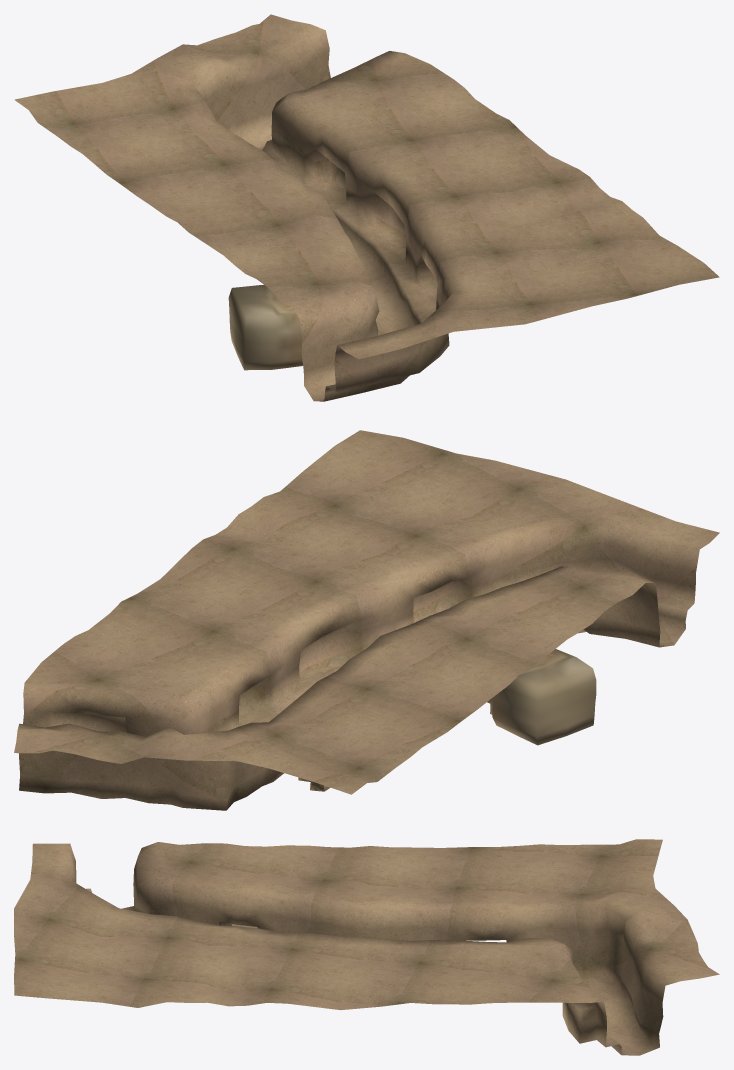
The model's file is trench_base.dae.
3 views of the same model, one above another, from view 1: azimuth 30°, elevation 25°; view 2: azimuth 150°, elevation 25°; view 3: azimuth 270°, elevation 25° (orthographic). The views are drawn at different scales.
Parts seen in each view (by area): view 1: Ground; view 2: Ground; view 3: Ground.
Part boxes in pixels (x1,y1,x2,y2): Ground: [14, 14, 719, 401]; Ground: [14, 430, 719, 810]; Ground: [14, 839, 719, 1055].
Bounding box in the file's own units: 35.73 × 66.42 × 10.37.
